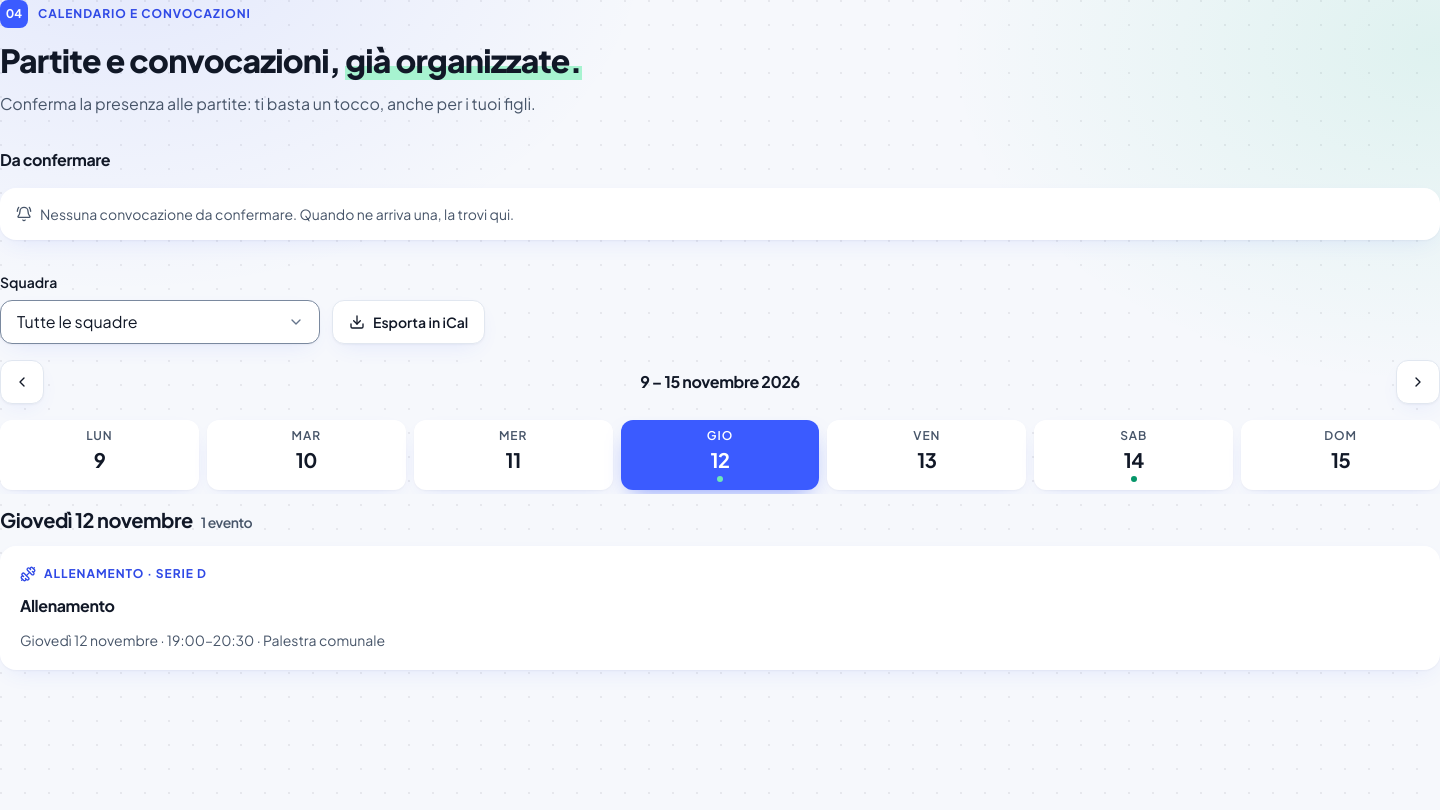
it: convocations of an athlete or a guardian › answers from the match too, without any staff tool
Click the button named "sab 14 novembre, con eventi". click: (1134, 455)
box: [1034, 420, 1233, 490]
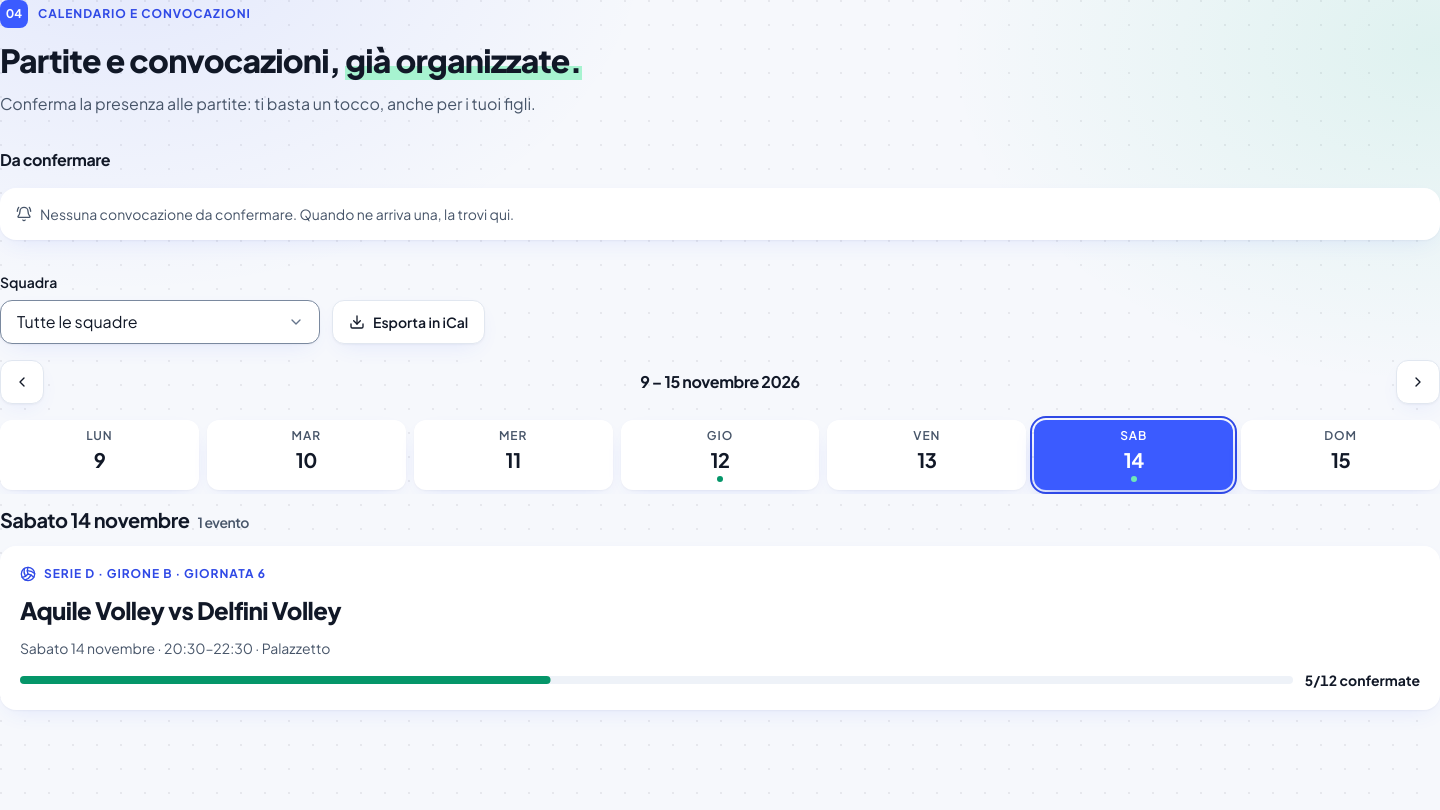
Click the button "Aquile Volley vs Delfini Volley". click: (181, 610)
box: [20, 594, 341, 626]
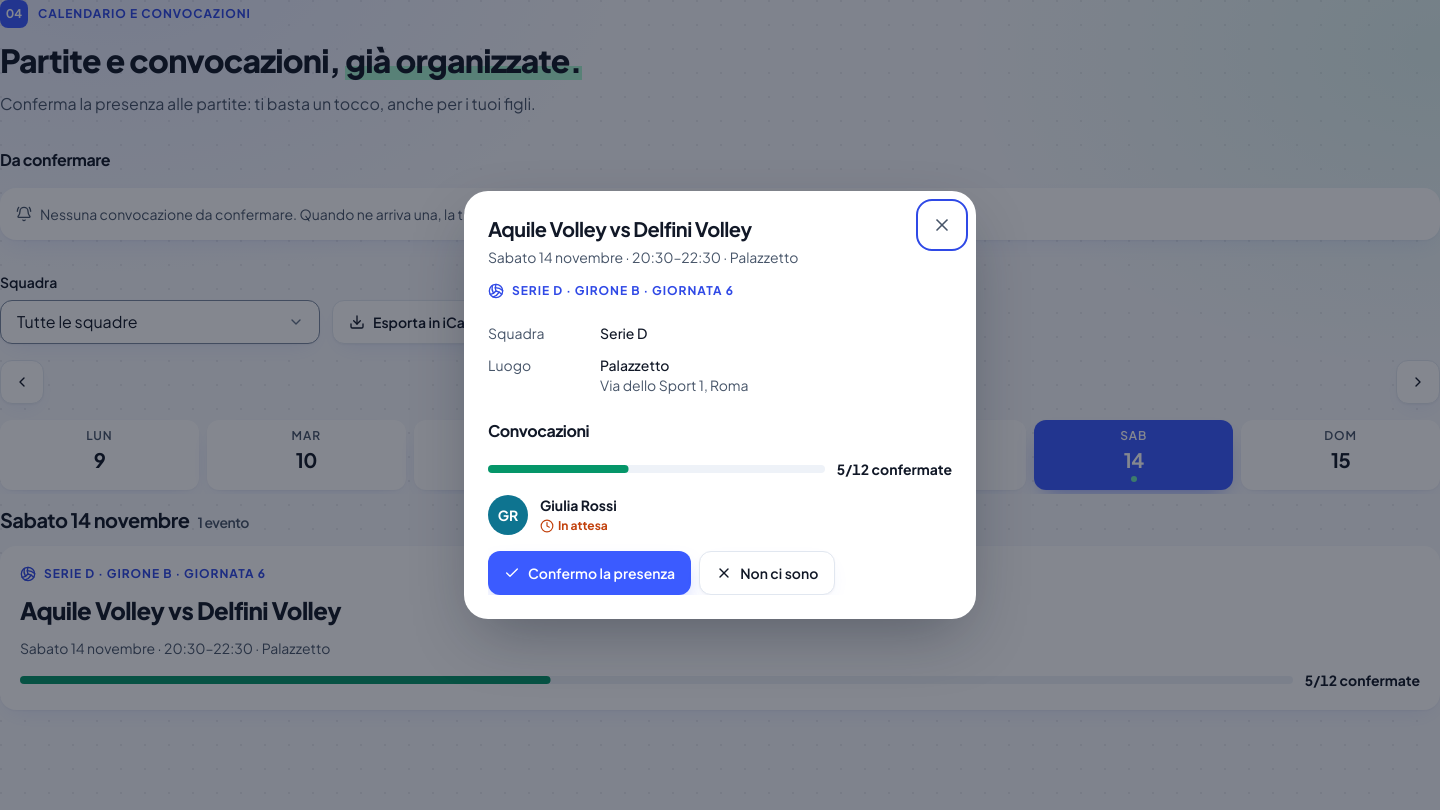
Expected: the button with aria-label "Confermo la presenza di Giulia Rossi" is shown, [488, 551, 691, 595]
Expected: the text "5/12 confermate" is shown, [837, 459, 952, 479]
